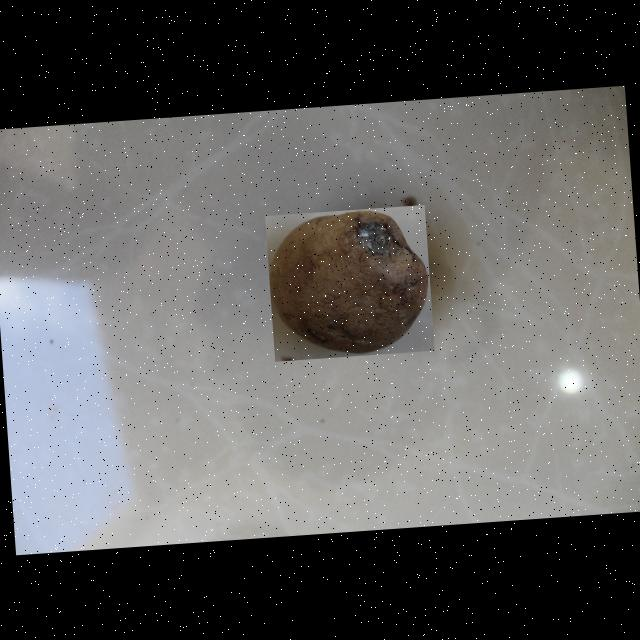Diseased-fungal potato: (264, 205, 434, 362)
